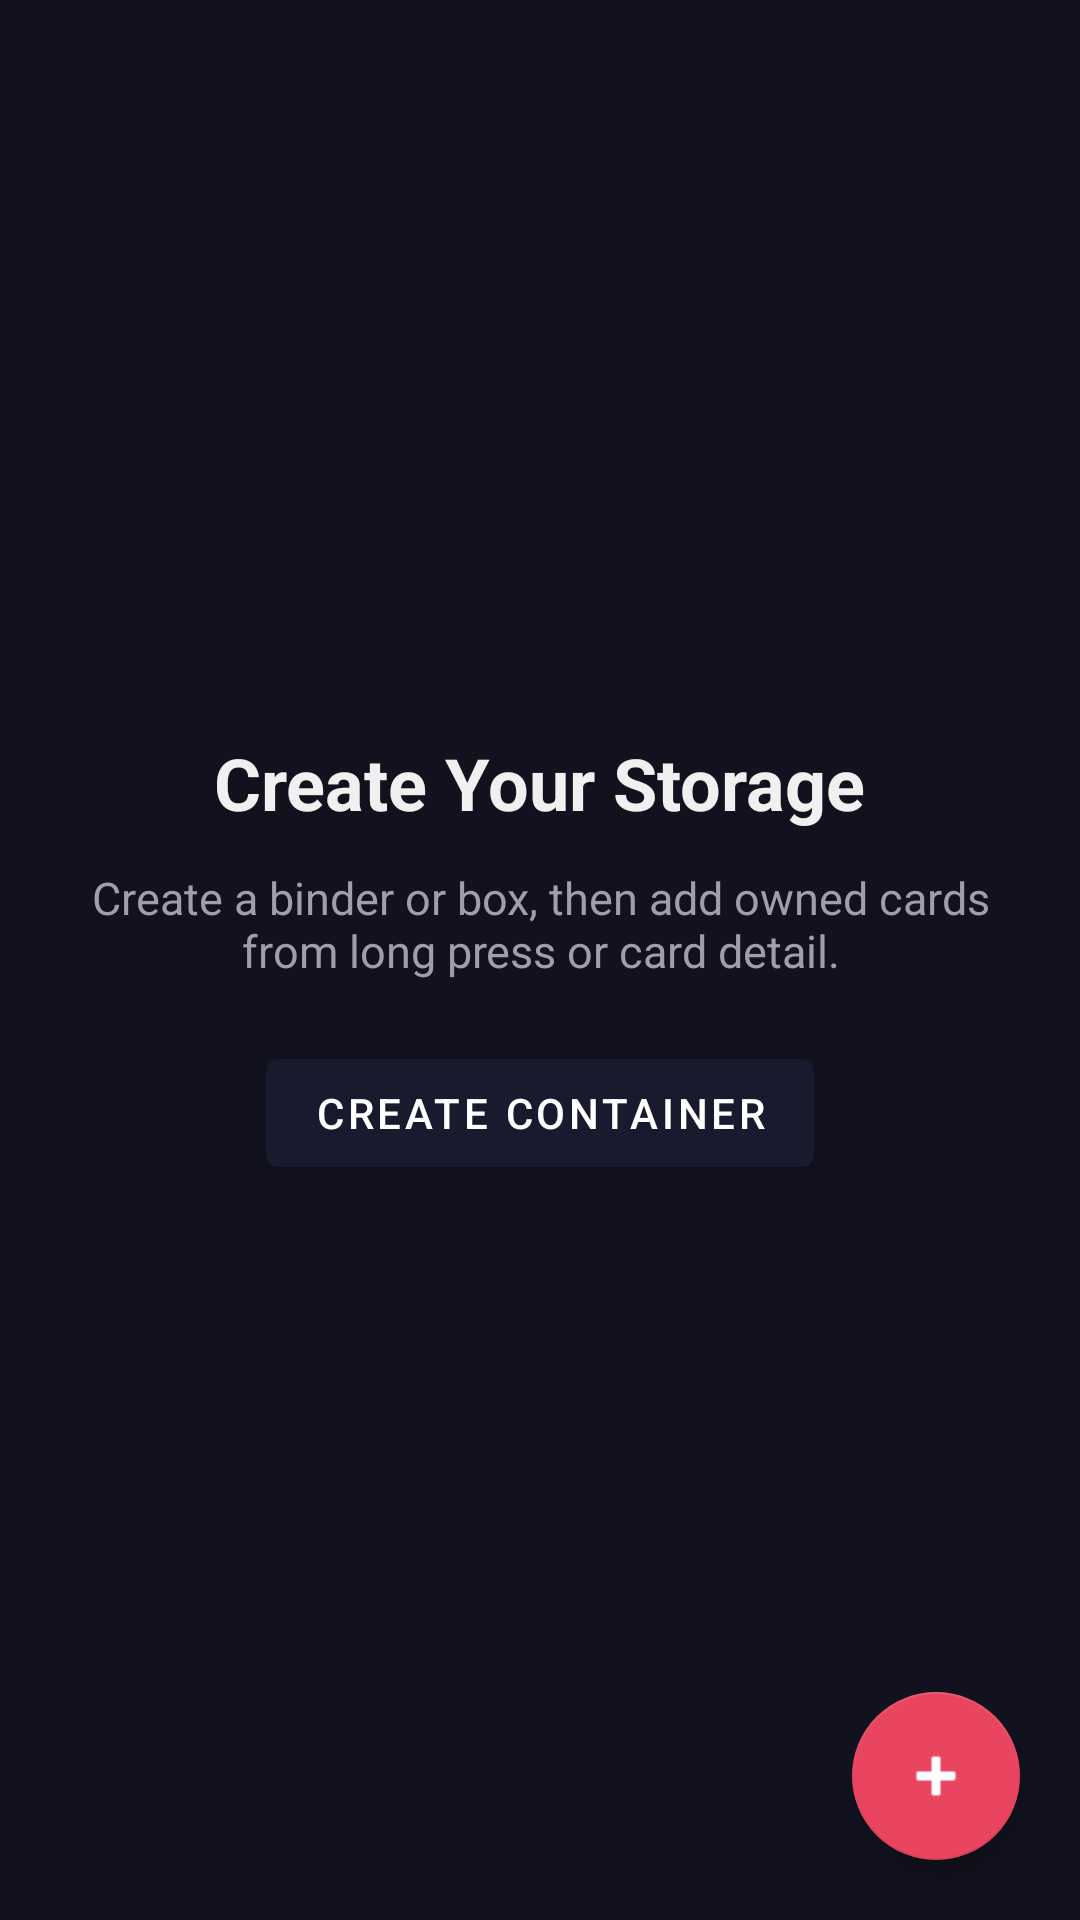

Screen size 1080×1920. Icon name, then its box in pixels as (x1, y1, x2, y2):
Create Container: (852, 1692, 1020, 1860)
